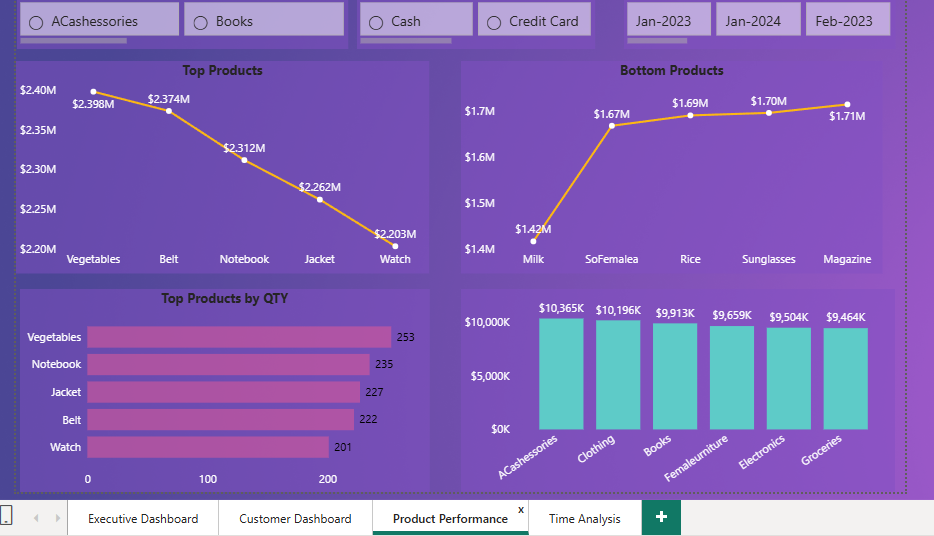

The page's visual inventory and layout, read from the dashboard file:
{"tool":"powerbi","page":{"name":"Product Performance","canvas":[1280,720],"ordinal":2},"visuals":[{"type":"lineChart","title":"Top Products","fields":{"Y":["_All Measures.Total Sales"],"Category":["Sales.product_name"]},"box":[0,99.1,594.7,305.9],"z":3000},{"type":"columnChart","title":"Top 5 Customers","fields":{"Y":["_All Measures.Total Sales"],"Category":["Sales.product_category"]},"box":[640.9,427.2,625.5,292.2],"z":4000},{"type":"clusteredBarChart","title":"Top  Products by QTY","fields":{"Category":["Sales.product_name"],"Y":["_All Measures.Total Quantity"]},"box":[5.1,427.2,589.6,293.9],"z":6000},{"type":"lineChart","title":"Bottom Products","fields":{"Y":["_All Measures.Total Sales"],"Category":["Sales.product_name"]},"box":[640.9,99.1,606.7,305.9],"z":6001},{"type":"advancedSlicerVisual","fields":{"Values":["Sales.payment_mode"]},"box":[490.5,10.3,343.5,71.8],"z":6002},{"type":"advancedSlicerVisual","fields":{"Values":["Date.year month"]},"box":[875,10.3,391.3,71.8],"z":6003},{"type":"advancedSlicerVisual","fields":{"Values":["Sales.product_category"]},"box":[1.7,10.3,476.8,71.8],"z":6004}]}

Visuals, with their boxes on the page's 1280x720 design canvas (x1, y1, x2, y2). These are canvas units, not pixel positions in the 934x536 screenshot, which may show the page scaled, cropped or inside an application window:
"Top Products" lineChart: crop(0, 99, 595, 405)
"Top 5 Customers" columnChart: crop(641, 427, 1266, 719)
"Top  Products by QTY" clusteredBarChart: crop(5, 427, 595, 721)
"Bottom Products" lineChart: crop(641, 99, 1248, 405)
advancedSlicerVisual - Sales.payment_mode: crop(490, 10, 834, 82)
advancedSlicerVisual - Date.year month: crop(875, 10, 1266, 82)
advancedSlicerVisual - Sales.product_category: crop(2, 10, 478, 82)
